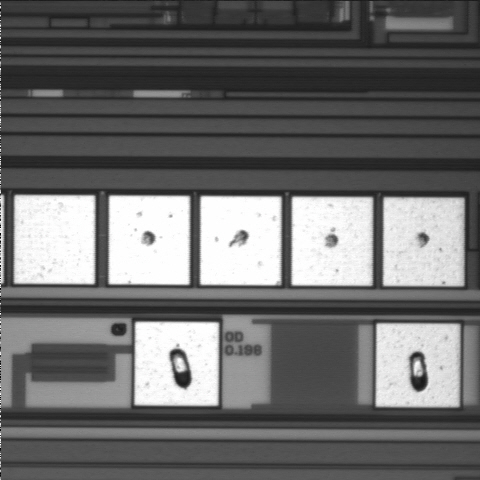pad: (14, 195, 95, 284), (109, 196, 190, 285), (200, 196, 281, 285), (292, 197, 373, 286), (383, 198, 464, 286), (135, 322, 219, 406), (376, 324, 460, 407)
